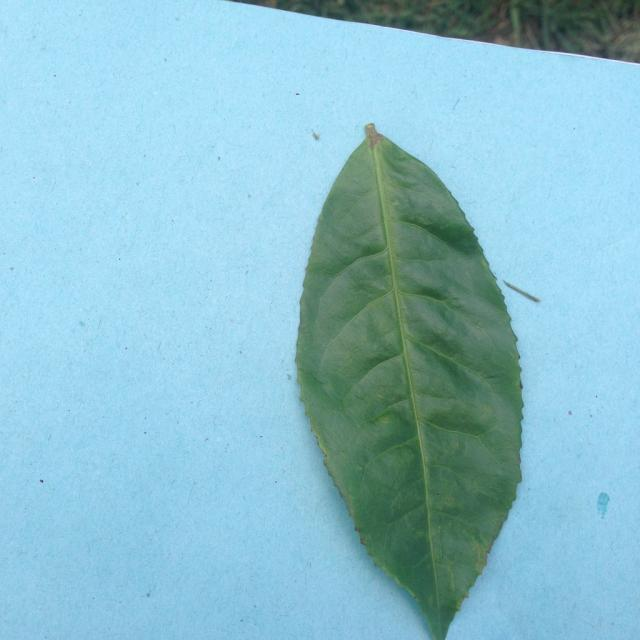Healthy: (233, 94, 556, 640)
